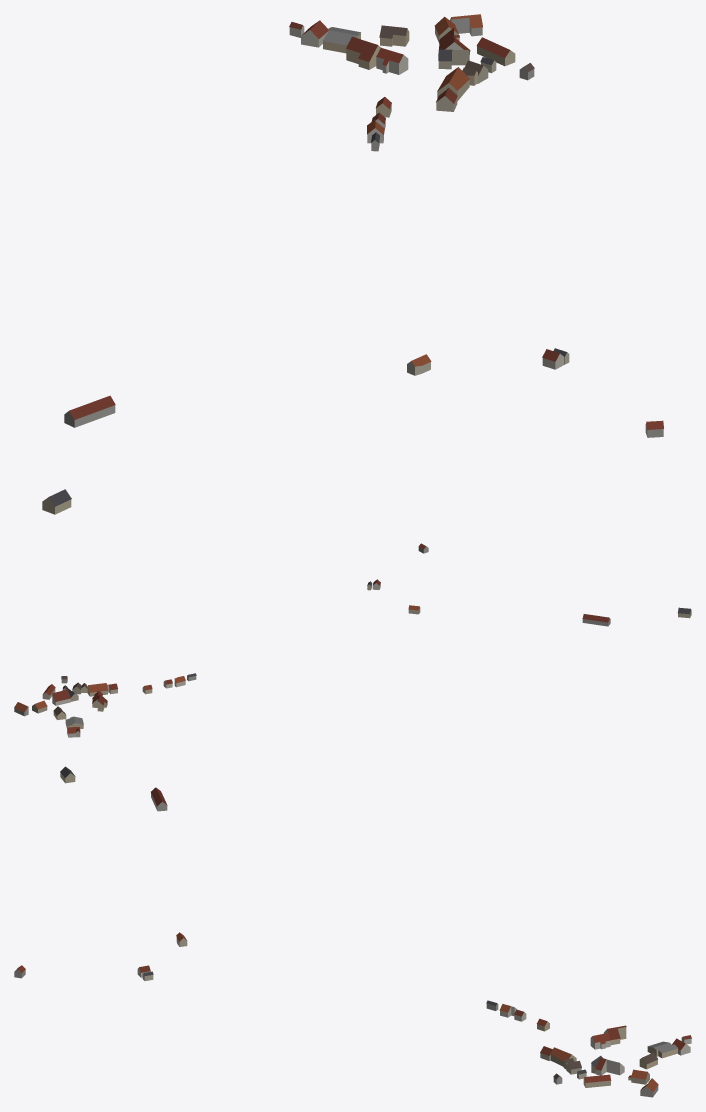
3 renders of one model, top to bottom at view 1: azimuth 30°, elevation 25°; view 2: azimuth 150°, elevation 25°; view 3: azimuth 270°, elevation 25°, orthographic. The views are drawn at different scales.
Parts seen in each view (by area): view 1: buildings; view 2: buildings; view 3: buildings.
Boxes of the visible parts, box(x1,y1,x2,y2) form: buildings: box(42, 14, 663, 514); buildings: box(14, 543, 691, 737); buildings: box(14, 766, 691, 1097).
Size of the model in its own units: 671 by 69.85 by 692.
